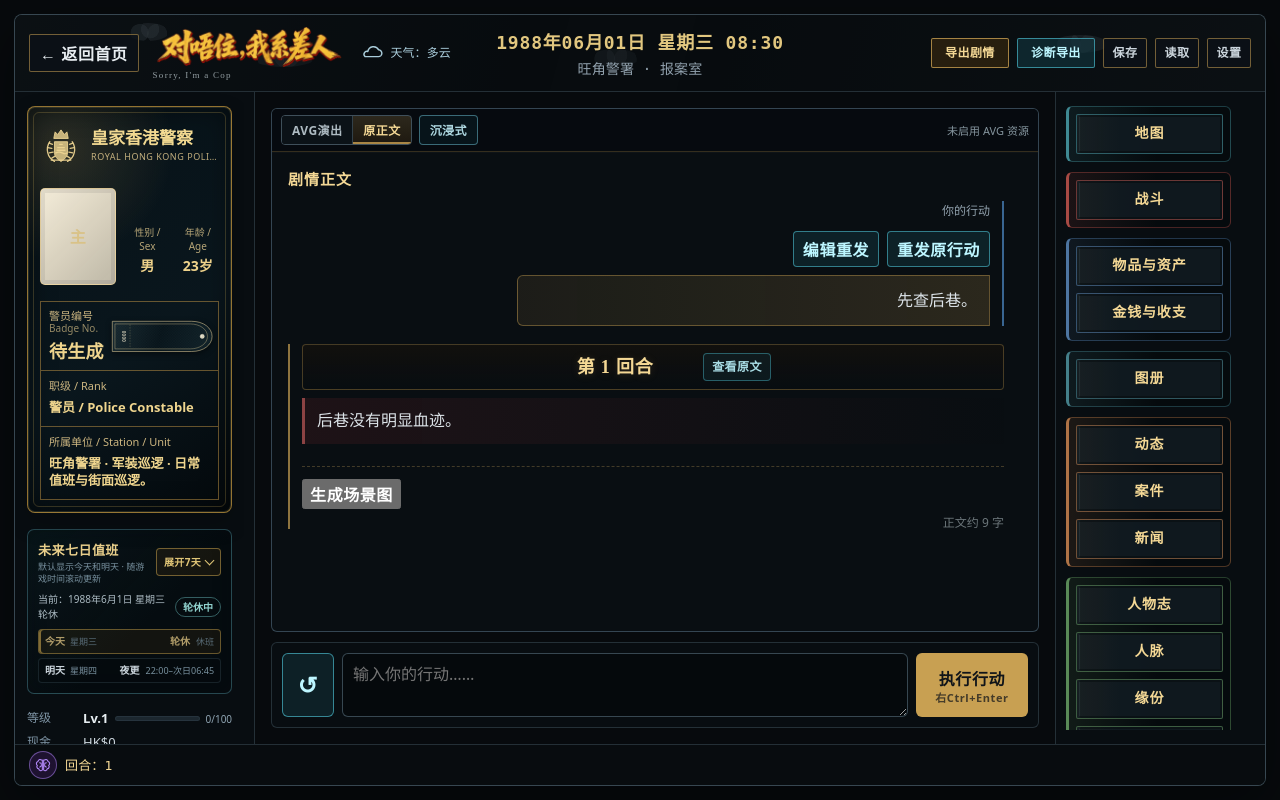
Test: GameScreen rollback chain › rolls back the latest turn and puts the old action back into the command input
What coordinates should you click on to do the following:
click the button named "重ROLL上一回合"
I would click on:
 (308, 685)
Its box is x1=282 y1=653 x2=334 y2=717.
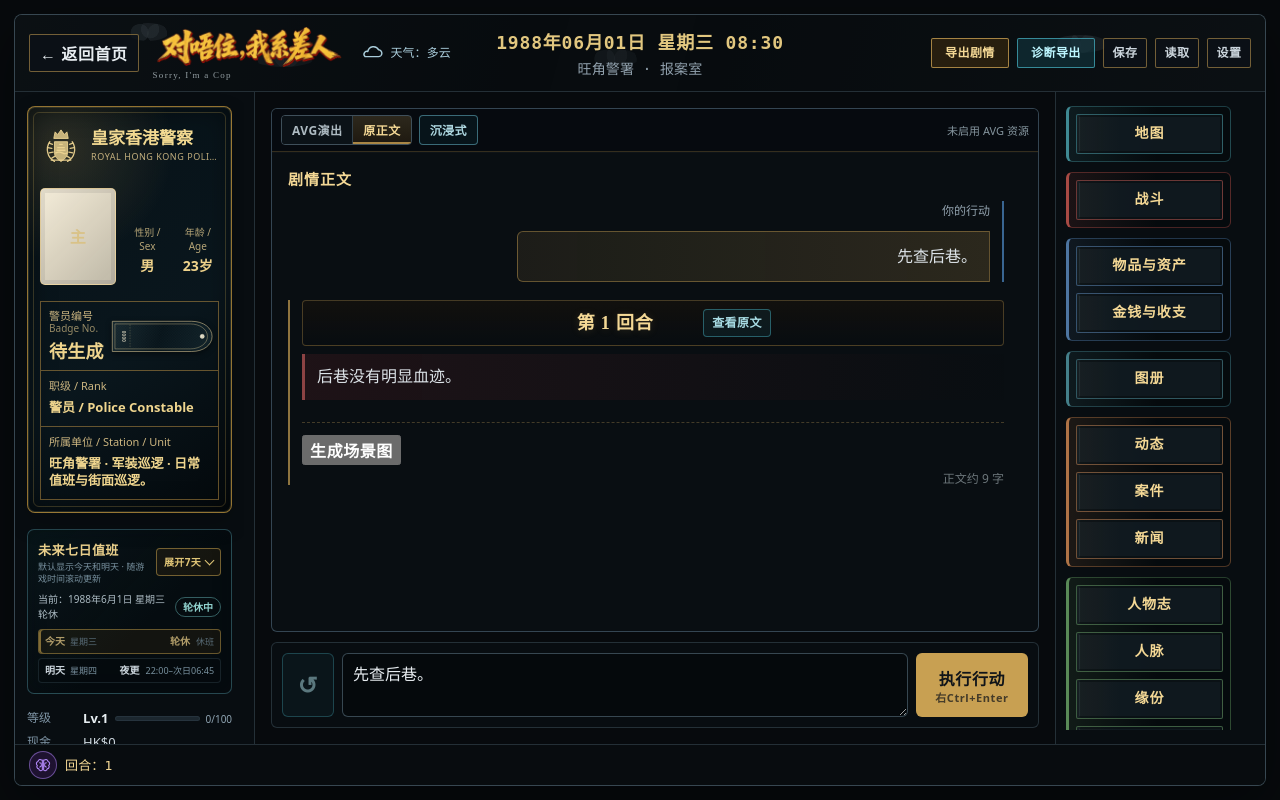
Check: the text box named "玩家行动" holds "先查后巷。", box x1=342 y1=653 x2=908 y2=717
